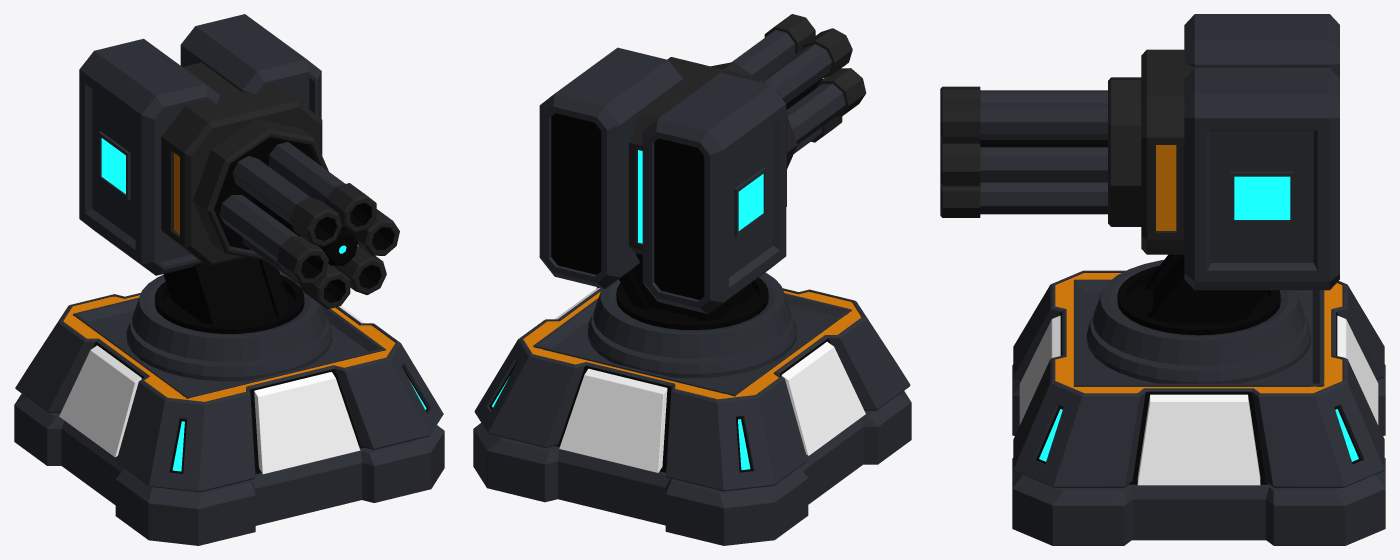
Rendered from SM_Turret_Minigun.fbx.
3 views of the same model, side by side, from view 1: azimuth 30°, elevation 25°; view 2: azimuth 150°, elevation 25°; view 3: azimuth 270°, elevation 25° (orthographic). The views are drawn at different scales.
Visible parts, largest first — view 1: SM_Minigun_Base, SM_Minigun_Rotating_Head, SM_Minigun_Rotating_Gun; view 2: SM_Minigun_Base, SM_Minigun_Rotating_Head, SM_Minigun_Rotating_Gun; view 3: SM_Minigun_Base, SM_Minigun_Rotating_Head, SM_Minigun_Rotating_Gun.
Boxes of the visible parts, x1,y1,x2,y2 form: SM_Minigun_Base: (14,293,444,545); SM_Minigun_Rotating_Head: (79,14,332,381); SM_Minigun_Rotating_Gun: (193,119,399,309); SM_Minigun_Base: (473,287,911,545); SM_Minigun_Rotating_Head: (539,47,797,378); SM_Minigun_Rotating_Gun: (711,14,866,168); SM_Minigun_Base: (1012,270,1385,545); SM_Minigun_Rotating_Head: (1086,14,1339,383); SM_Minigun_Rotating_Gun: (940,77,1141,226).
Bounding box in the file's own units: 100 × 122 × 119.
